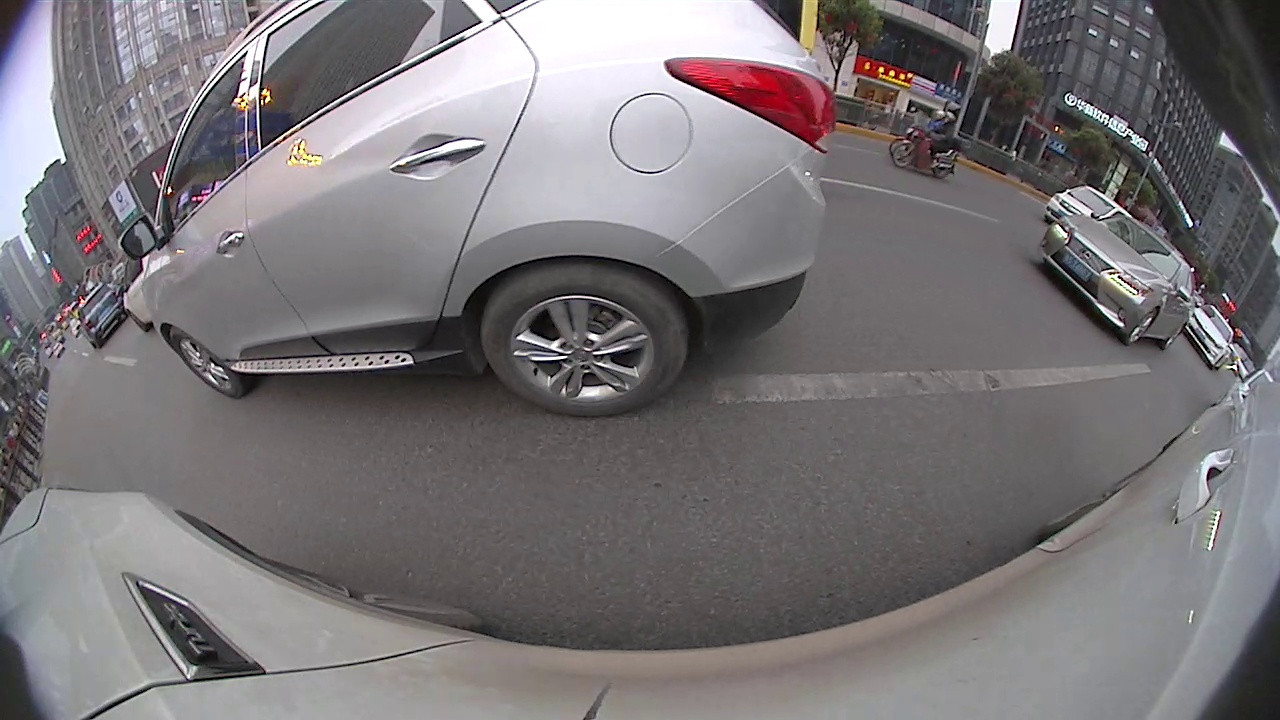car: (144, 1, 830, 402), (1038, 219, 1203, 352), (1047, 181, 1136, 237), (1179, 303, 1239, 369), (76, 276, 124, 350)
front: (166, 325, 250, 400), (1123, 307, 1159, 347), (891, 137, 917, 171)
rear: (478, 267, 694, 418), (932, 162, 953, 181)
rider: (888, 112, 963, 182)
